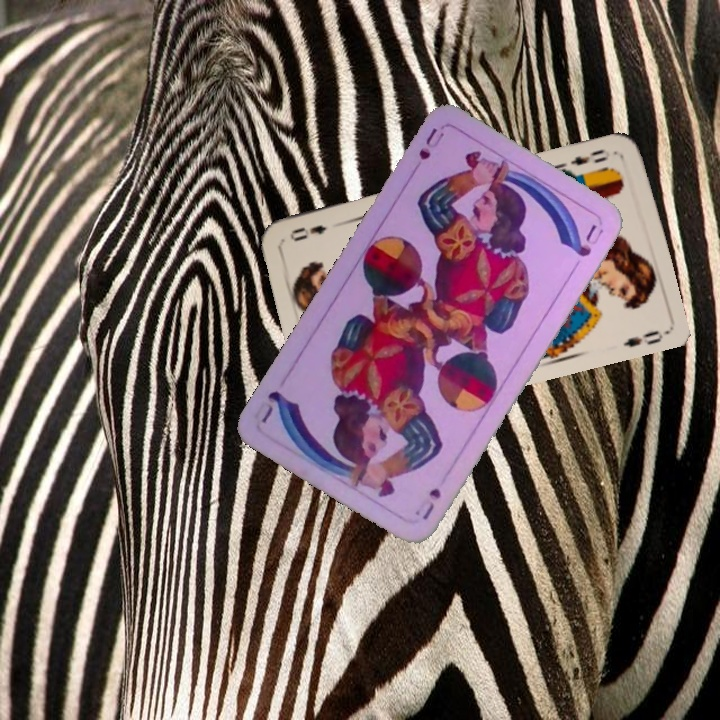EO: (566, 145, 612, 168)
SU: (408, 123, 447, 177), (410, 484, 444, 522)
